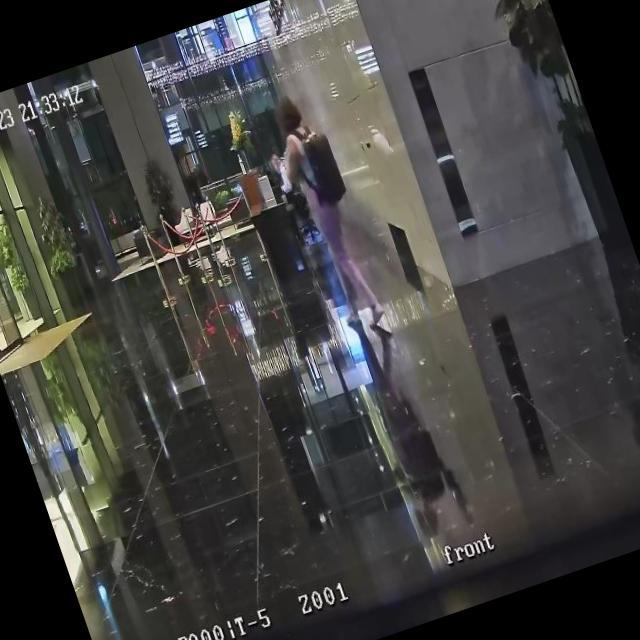person: (260, 85, 390, 340), (267, 148, 307, 214)
